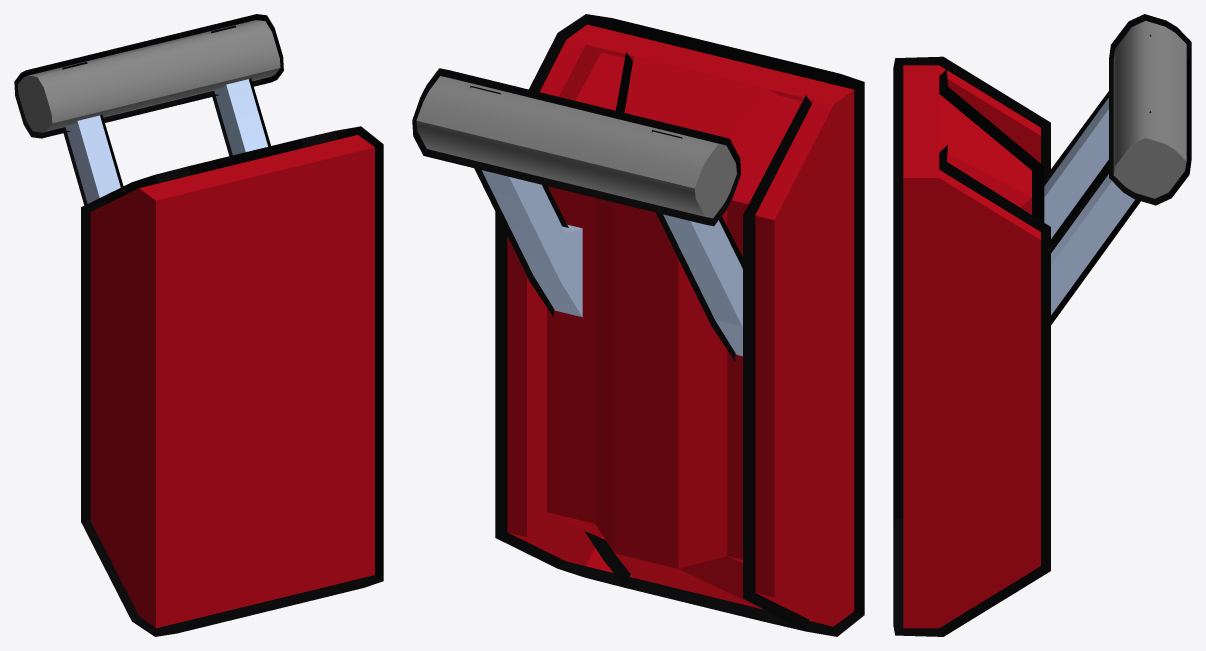
File: accionador.fbx
3 renders of one model, left to right at view 1: azimuth 30°, elevation 25°; view 2: azimuth 150°, elevation 25°; view 3: azimuth 270°, elevation 25°, orthographic. The views are drawn at different scales.
Visible parts, largest first — view 1: Cube.012, Cube.022; view 2: Cube.012, Cube.022; view 3: Cube.012, Cube.022.
Part boxes in pixels (box(x1,y1,x2,y2)): Cube.012: box(81, 126, 383, 636); Cube.022: box(14, 14, 283, 205); Cube.012: box(495, 14, 864, 636); Cube.022: box(412, 68, 742, 361); Cube.012: box(893, 56, 1050, 636); Cube.022: box(1044, 14, 1191, 324).
Size of the model in its own units: 29.34 by 58.32 by 31.16.
